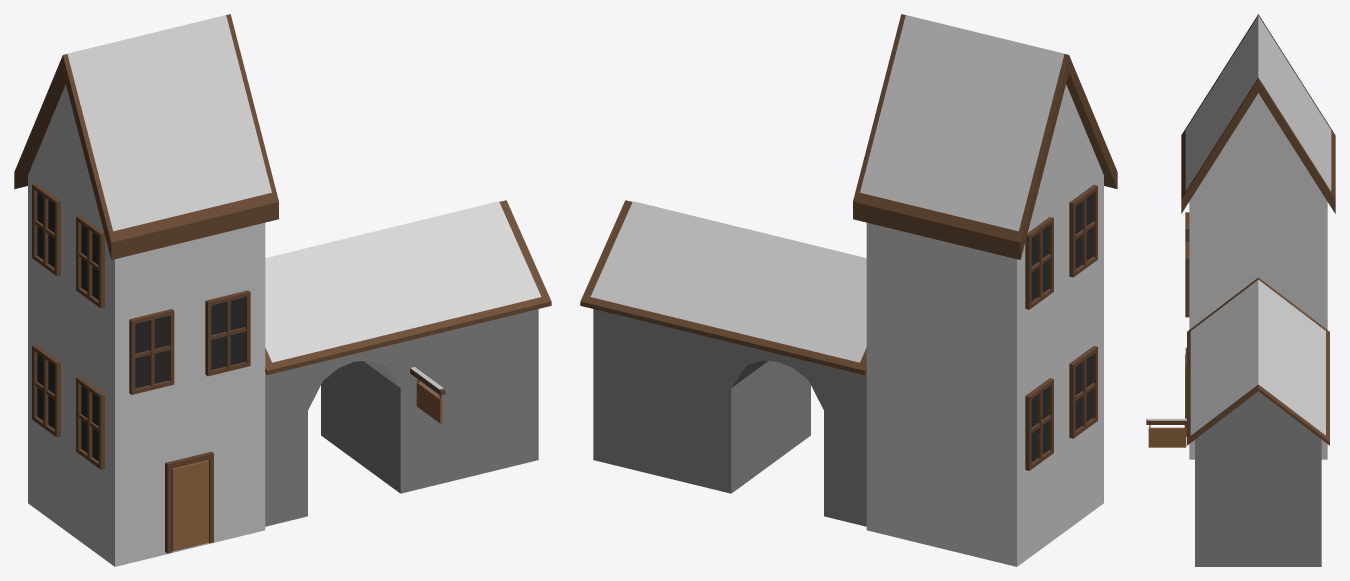
Rendered from GunShop_base_snow_mat.fbx.
3 views of the same model, side by side, from view 1: azimuth 30°, elevation 25°; view 2: azimuth 150°, elevation 25°; view 3: azimuth 270°, elevation 25° (orthographic). The views are drawn at different scales.
Parts seen in each view (by area): view 1: GunShop_base_snow_mat; view 2: GunShop_base_snow_mat; view 3: GunShop_base_snow_mat.
Part boxes in pixels (x1=…): GunShop_base_snow_mat: x1=14, y1=14, x2=551, y2=566; GunShop_base_snow_mat: x1=580, y1=14, x2=1117, y2=566; GunShop_base_snow_mat: x1=1146, y1=14, x2=1335, y2=566.
Size of the model in its own units: 541 by 562 by 251.
